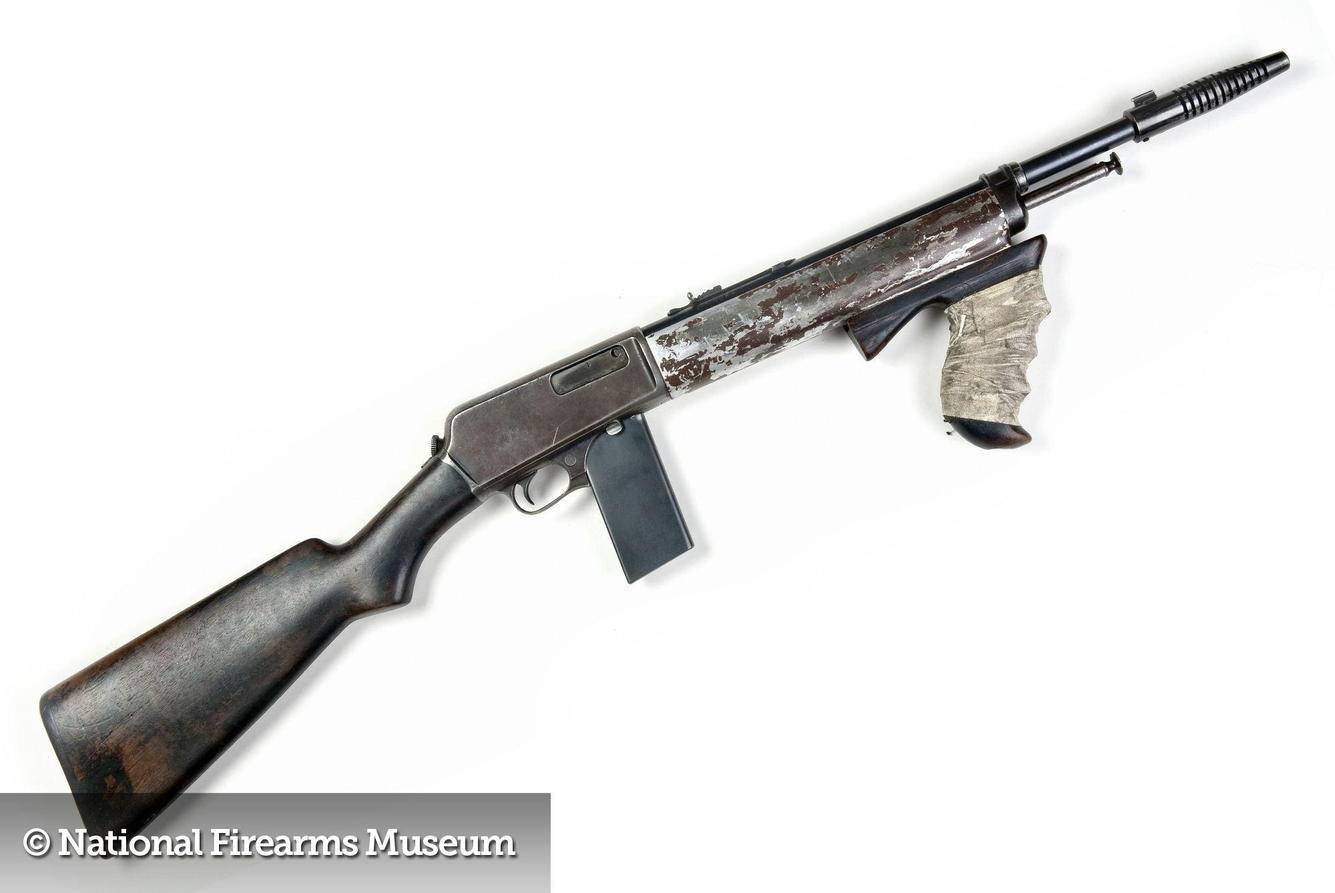gun: (17, 7, 1309, 865)
